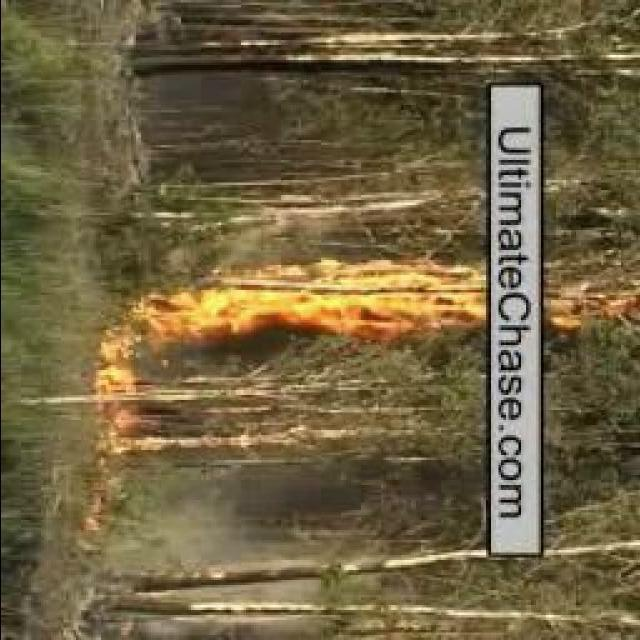Fire: (223, 268, 479, 332), (95, 278, 214, 405), (550, 282, 626, 327)
